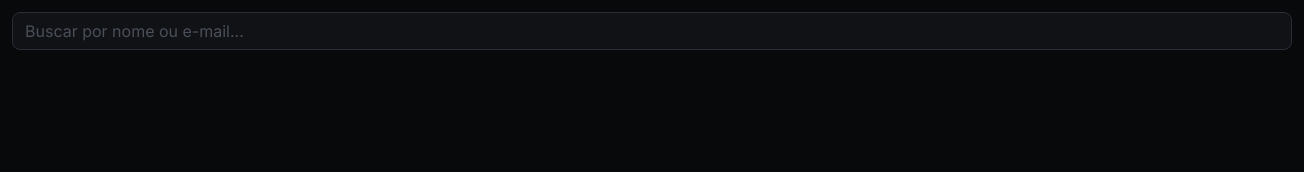
EmailIndividualPicker › oferece adicionar um e-mail digitado que não está na base
Type "novo@exemplo.com" into the field at [652, 31], box left=12, top=12, right=1292, bottom=50
Wait 500 ms
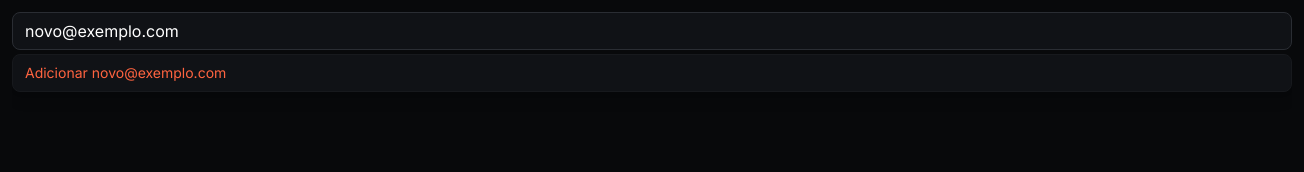
Result: the button "Adicionar novo@exemplo.com" is shown at left=13, top=55, right=1291, bottom=91
